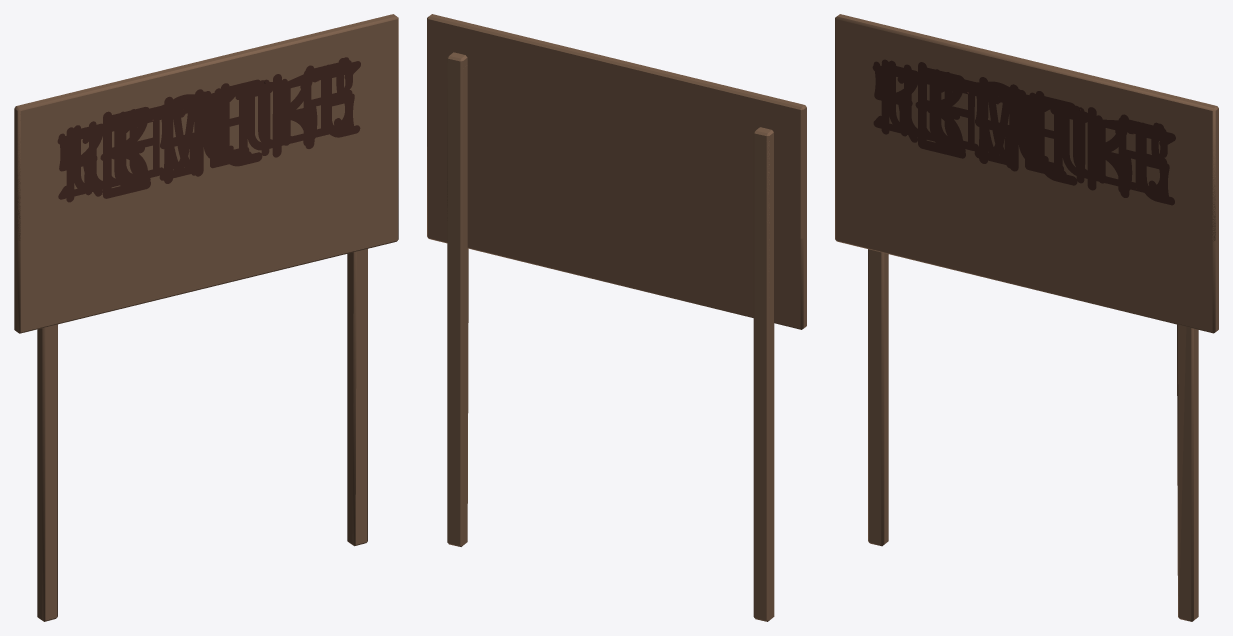
Rendered from signs_ground.fbx.
3 views of the same model, side by side, from view 1: azimuth 30°, elevation 25°; view 2: azimuth 150°, elevation 25°; view 3: azimuth 330°, elevation 25° (orthographic).
Visible parts, largest first — view 1: sign_level1_01, sign_resume01, sign_back01, sign_settings02, sign_level3_01, sign_level2_01; view 2: sign_back01, sign_level1_01, sign_level3_01, sign_resume01; view 3: sign_level1_01, sign_resume01, sign_back01, sign_settings02, sign_level2_01, sign_level3_01.
Boxes of the visible parts, x1,y1,x2,y2 form: sign_level1_01: [14, 19, 398, 618]; sign_resume01: [14, 14, 398, 621]; sign_back01: [14, 14, 395, 619]; sign_settings02: [37, 73, 367, 620]; sign_level3_01: [328, 57, 362, 544]; sign_level2_01: [73, 58, 346, 192]; sign_back01: [427, 14, 806, 621]; sign_level1_01: [427, 110, 806, 376]; sign_level3_01: [463, 65, 468, 545]; sign_resume01: [429, 14, 806, 619]; sign_level1_01: [835, 19, 1218, 618]; sign_resume01: [835, 14, 1218, 621]; sign_back01: [838, 14, 1218, 619]; sign_settings02: [868, 61, 1198, 620]; sign_level2_01: [888, 60, 1161, 195]; sign_level3_01: [1143, 123, 1186, 617].
Size of the model in its own units: 92.94 by 122 by 4.88.
